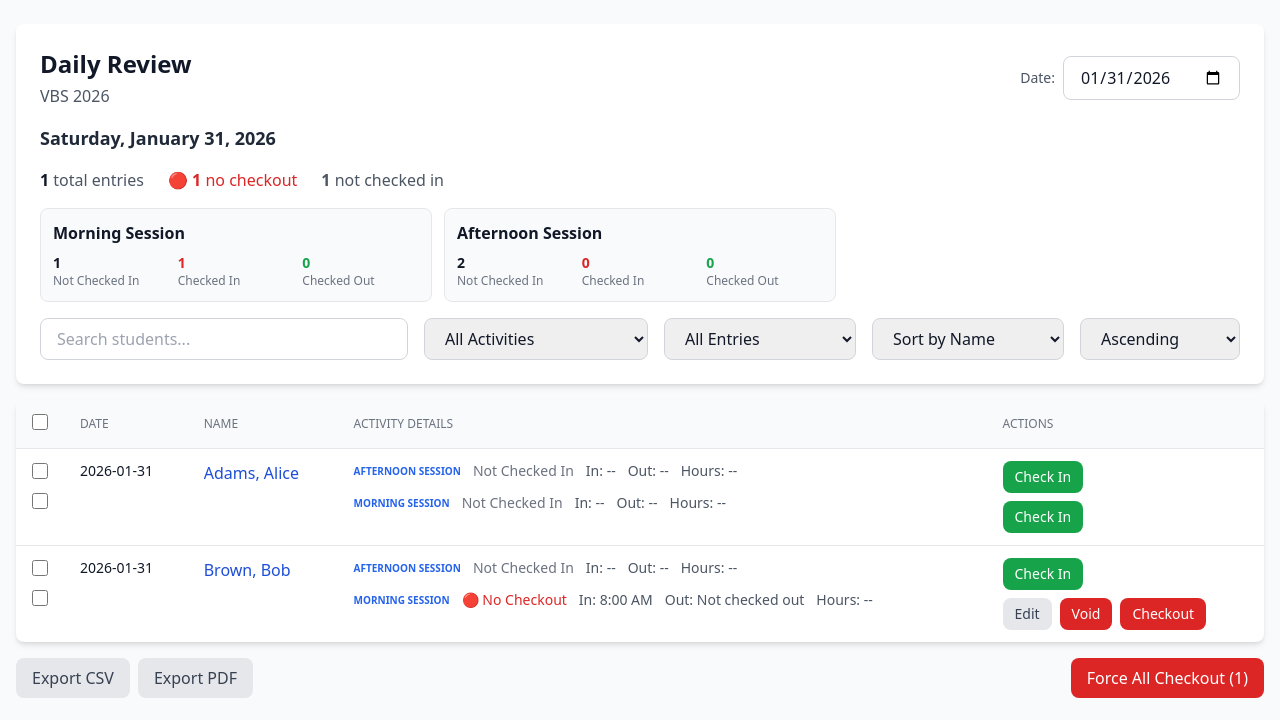
Scenario: DailyReview › filter options › should filter to event roster students who have not checked in
Select "Morning Session" in the dropdown named "Activity filter" at {"x": 536, "y": 339}, box [424,318,648,360]
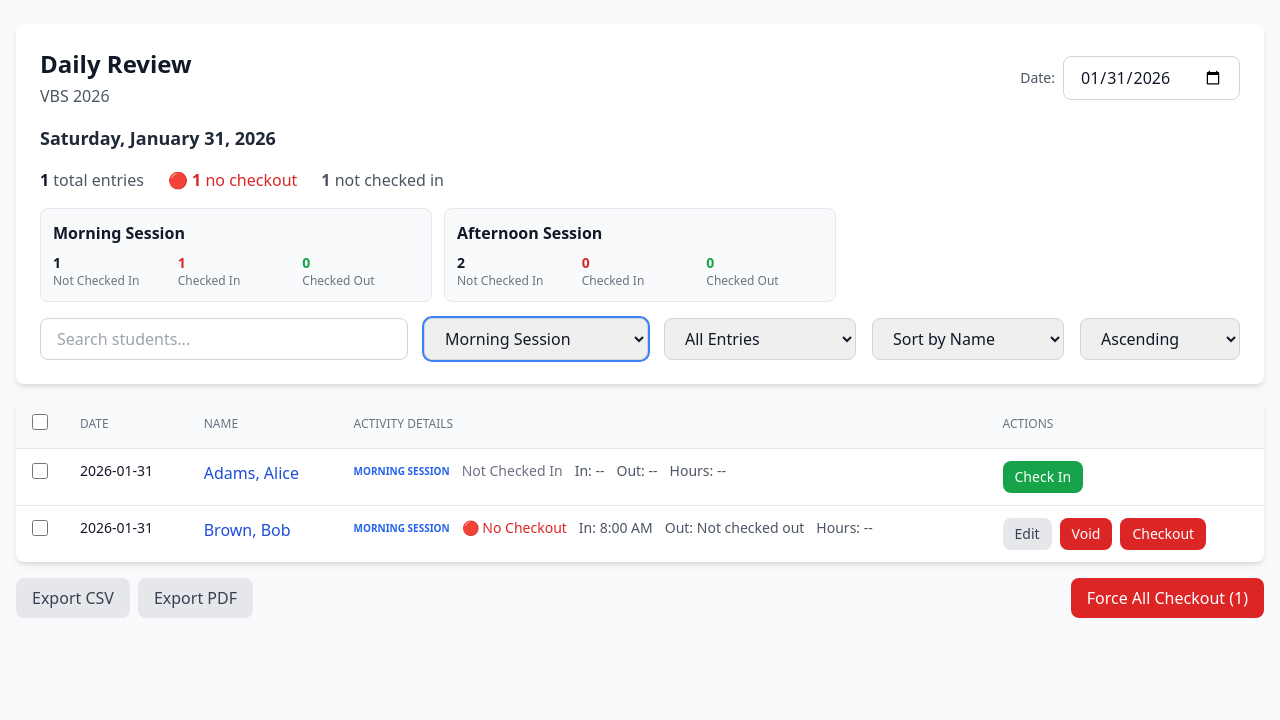
Select "Not Checked In" in the dropdown named "Status filter" at {"x": 760, "y": 339}, box [664,318,856,360]
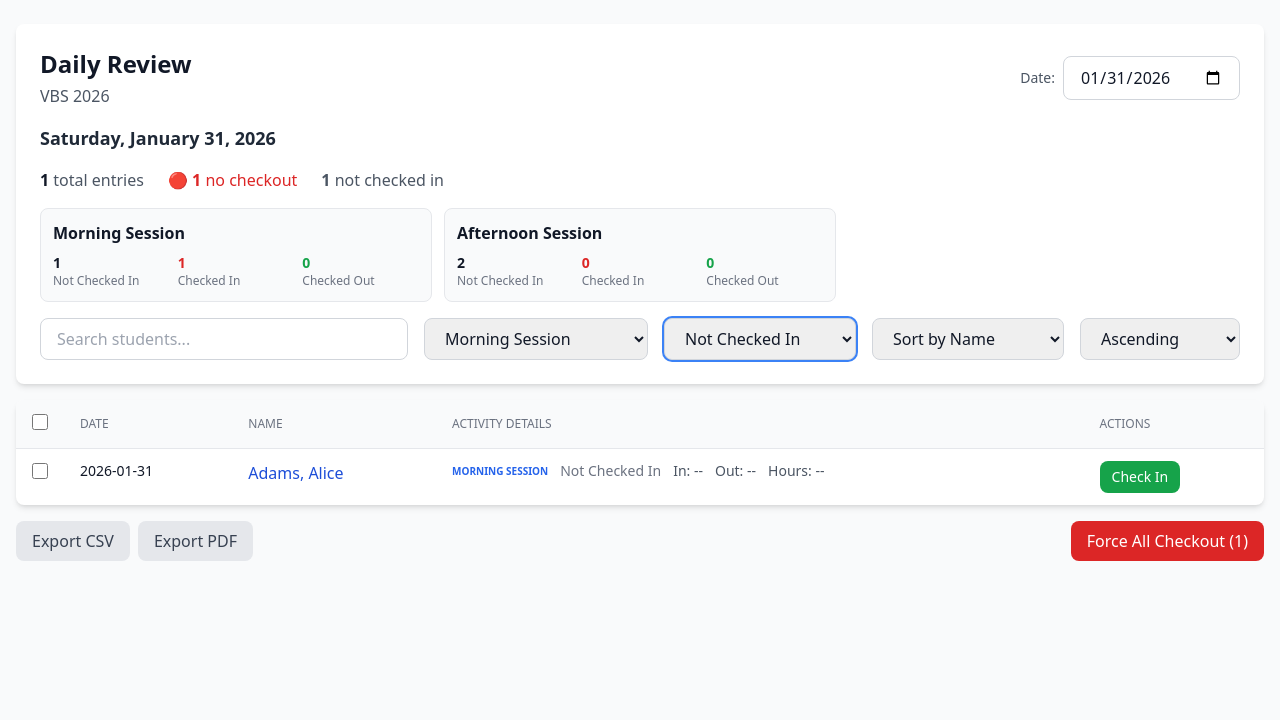
Expected: no links "Brown, Bob" are shown
